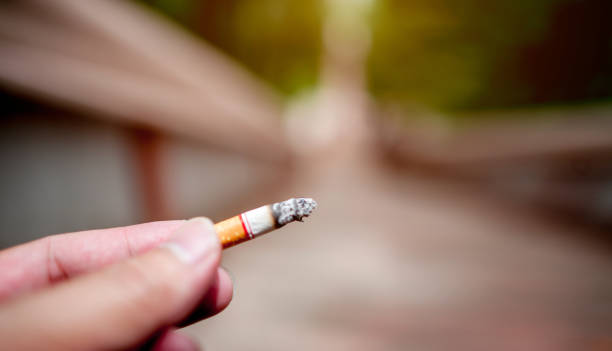cigarette: (211, 195, 321, 252)
